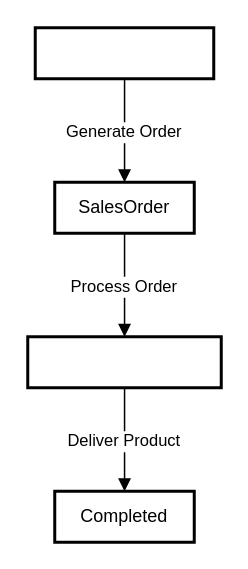
Image size: 248x569. Some labels were removed from this diagram. The centre of each missing label's shape, as x and y in pixels:
Implementation: the point at 124,361
SalesSignature: the point at 123,53
